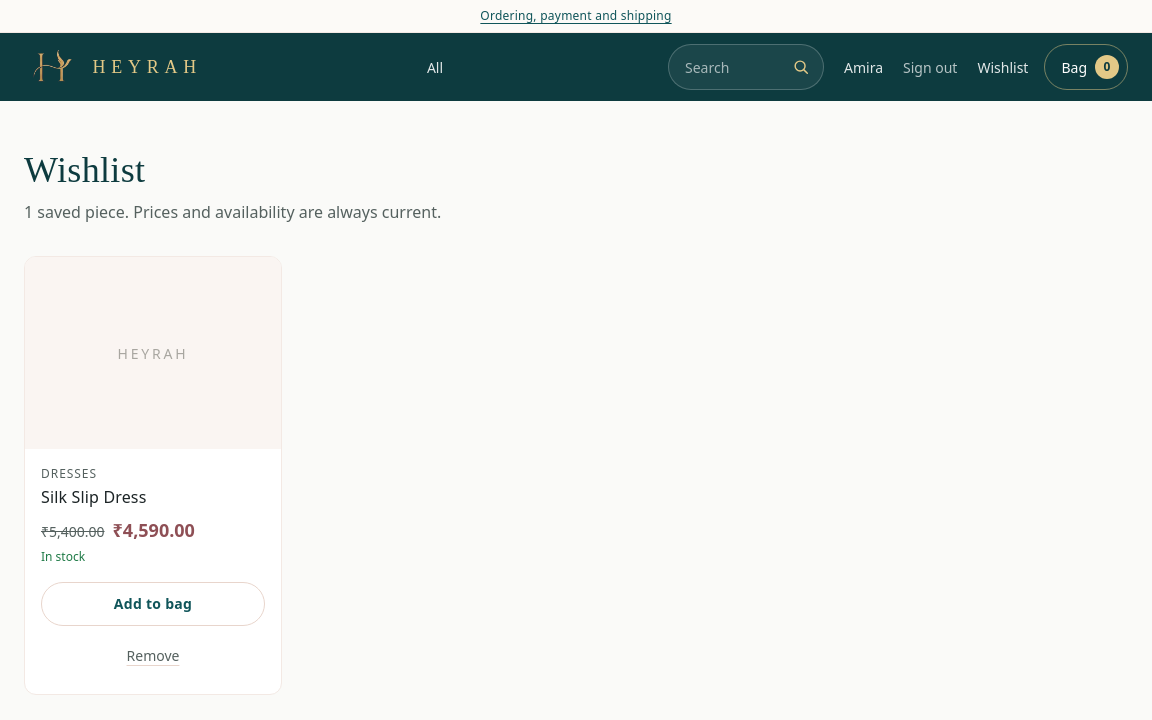
Test: wishlist page › adds a purchasable piece to the bag by product id only
The image size is (1152, 720).
What coordinates should you click on to do the following:
click the button with aria-label "Add Silk Slip Dress to bag"
I would click on:
 (153, 604)
Its box is [41,582,265,626].
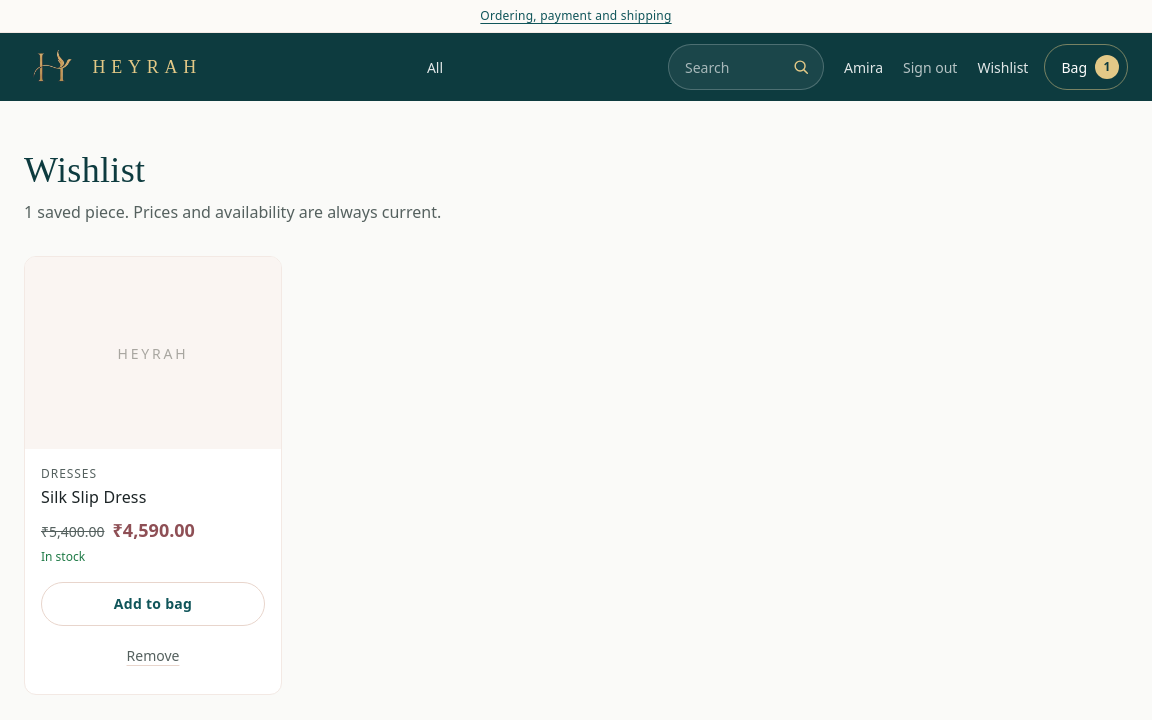
Expected: the text with test id "bag-count" reads "1", [1104,58,1110,75]
